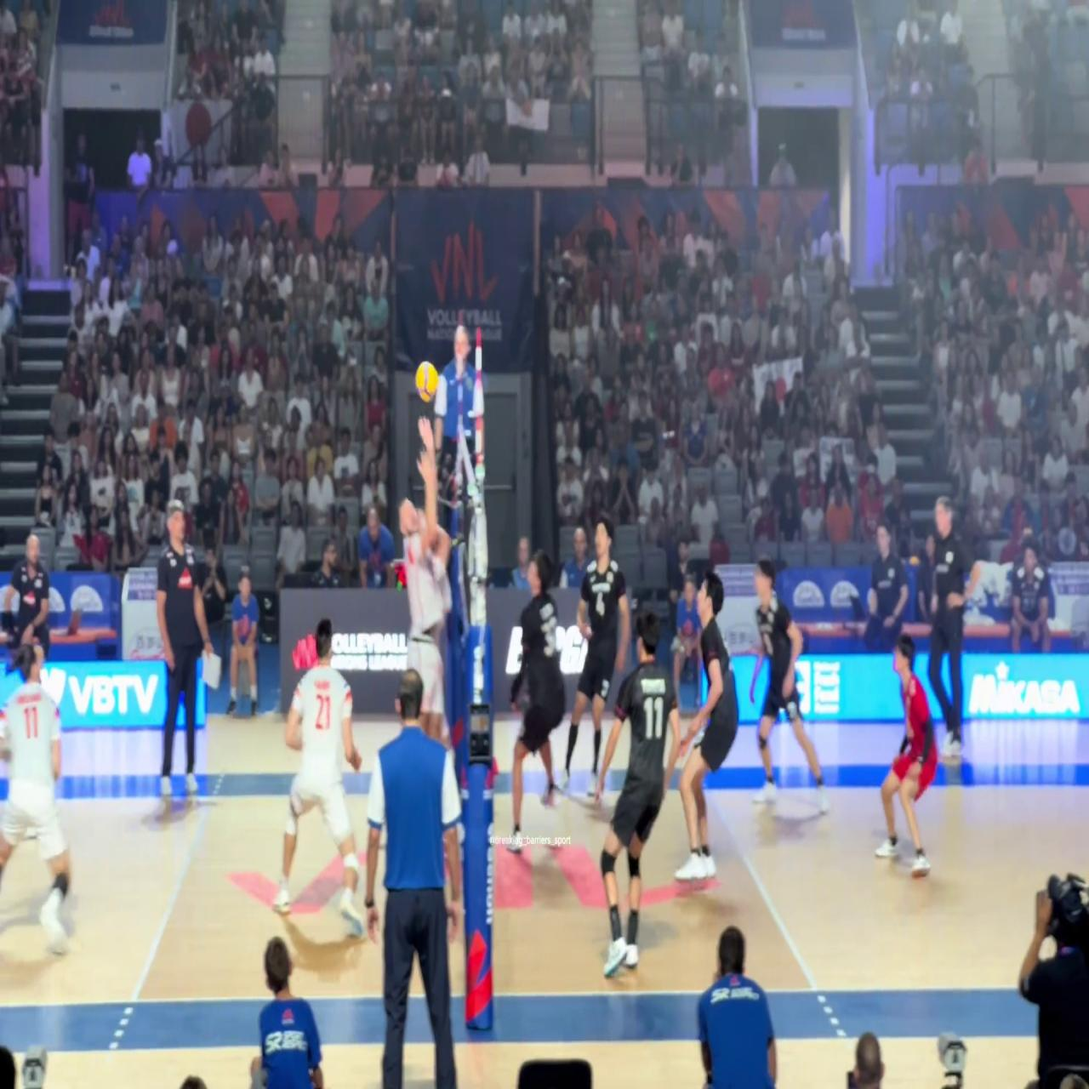ball: (416, 362, 439, 402)
